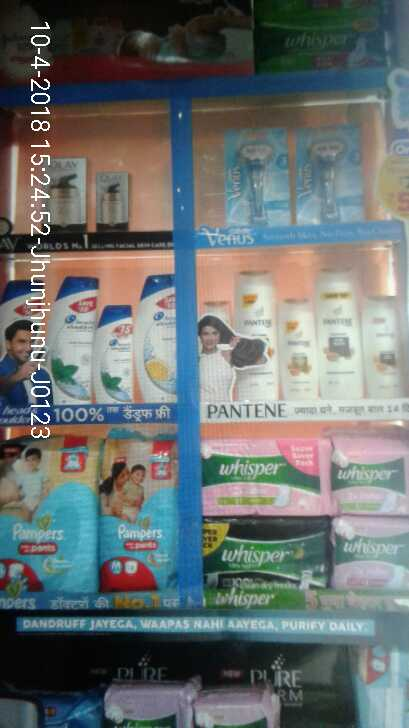venus: (295, 120, 363, 224), (230, 125, 292, 225)
